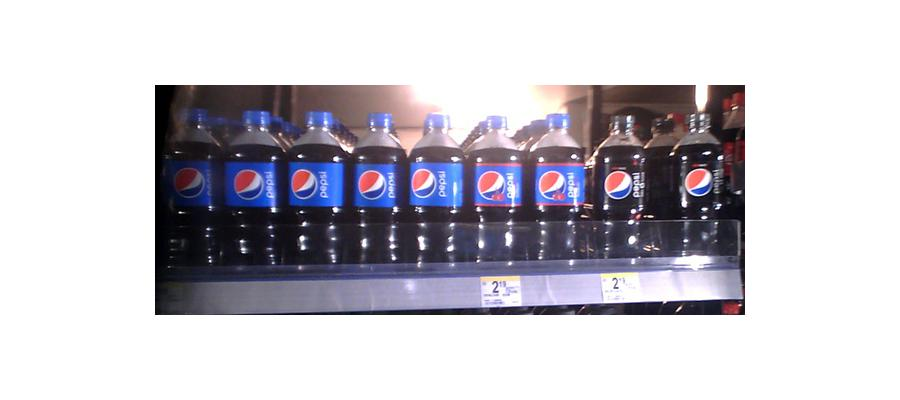bottle: (220, 108, 285, 266), (283, 113, 347, 258), (467, 111, 527, 265), (590, 112, 650, 260), (408, 113, 465, 265), (348, 113, 405, 261), (529, 109, 584, 260), (670, 106, 722, 255)
